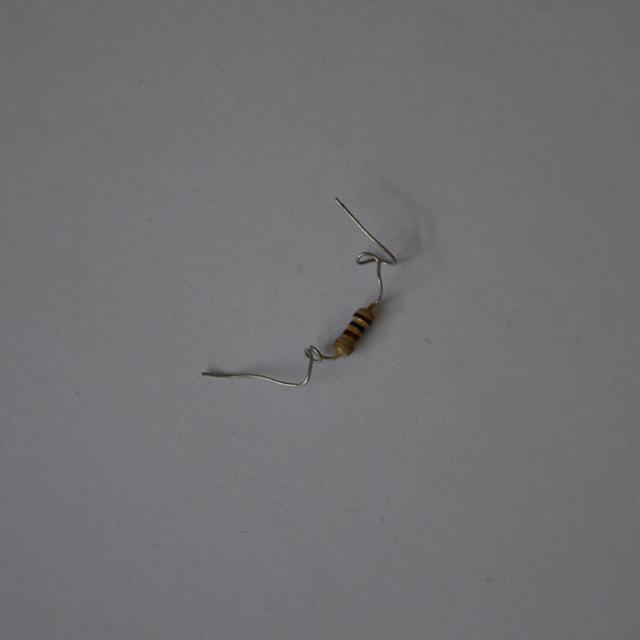Resistor Carbon-Film: (328, 303, 381, 364)
